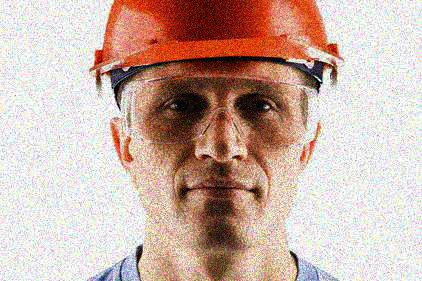helmet: (85, 2, 347, 250)
